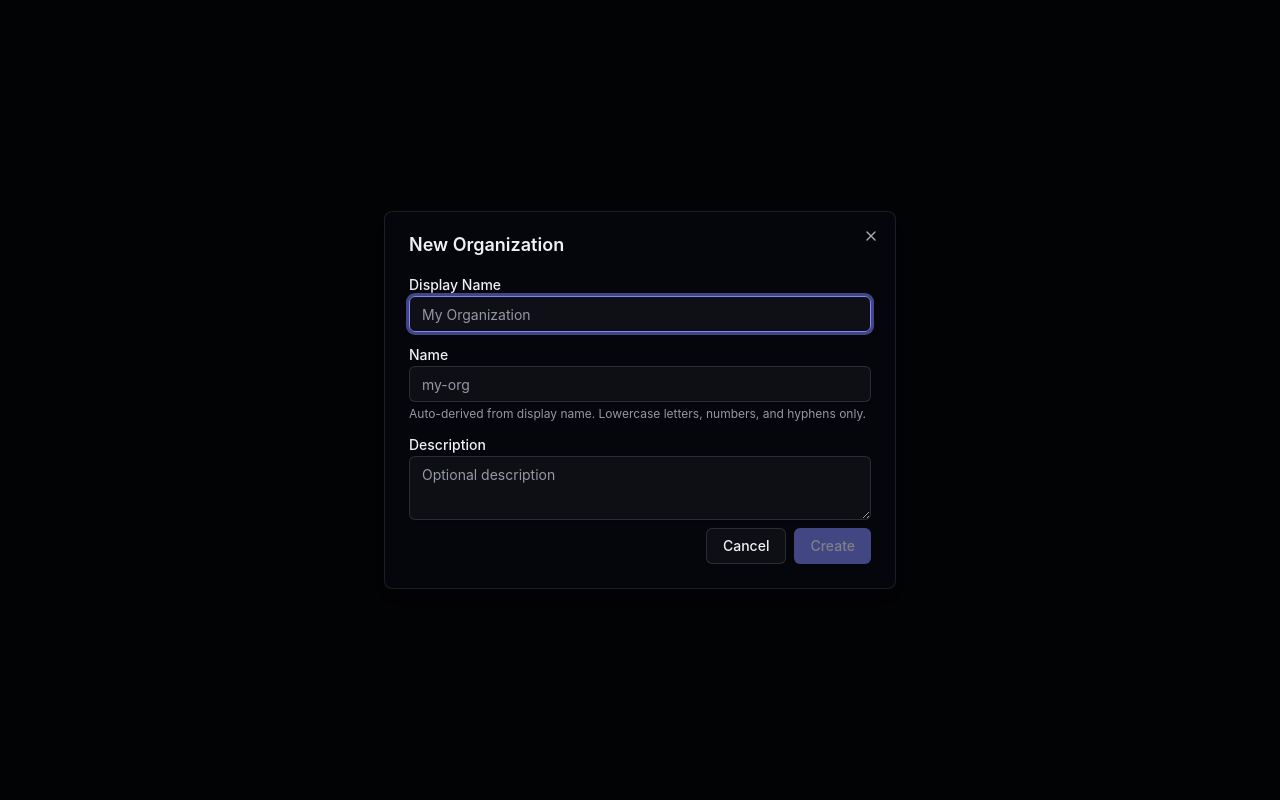
Test: CreateOrgDialog › shows reset link when name has been manually edited
Type "Test Org" into the field with placeholder "My Organization".
click(640, 314); type("Test Org")  # box [409, 296, 871, 332]
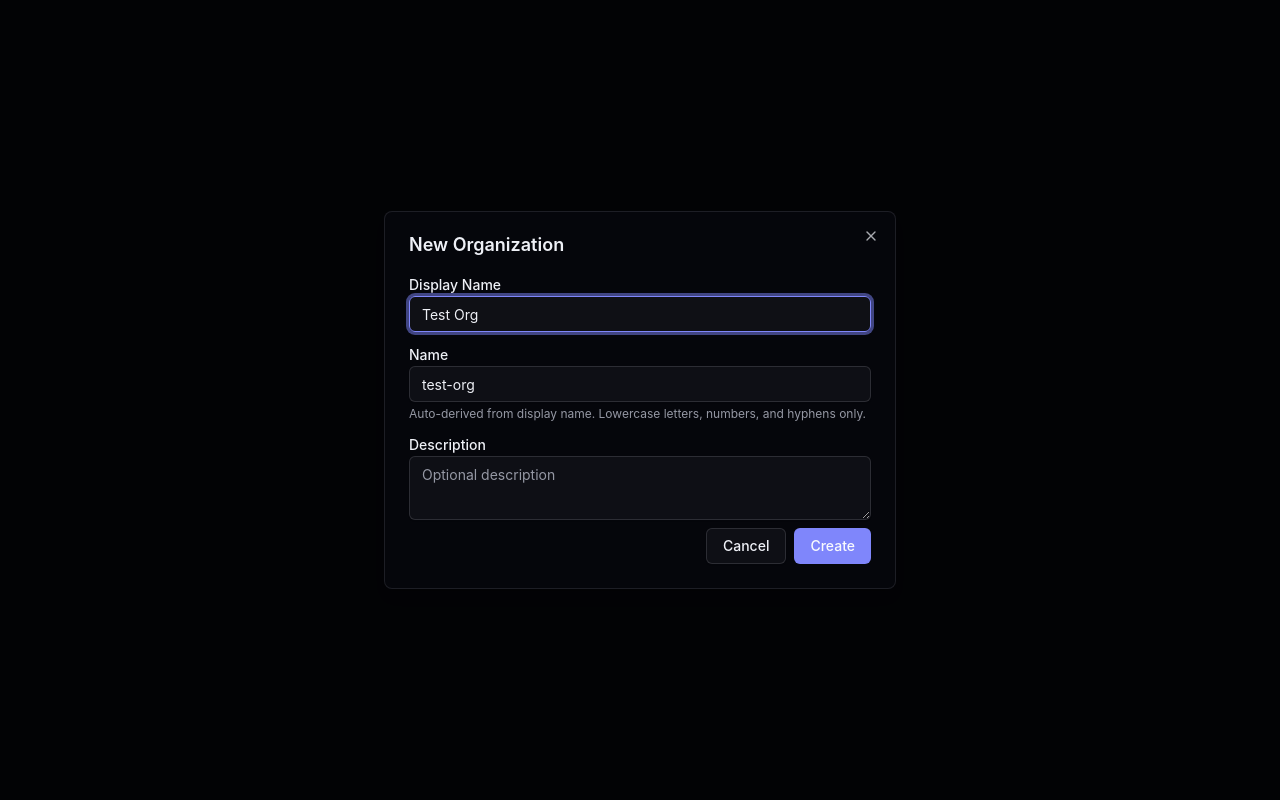
Replace the text in the field with placeholder "my-org" with "custom-slug" at (640, 384), box [409, 366, 871, 402]
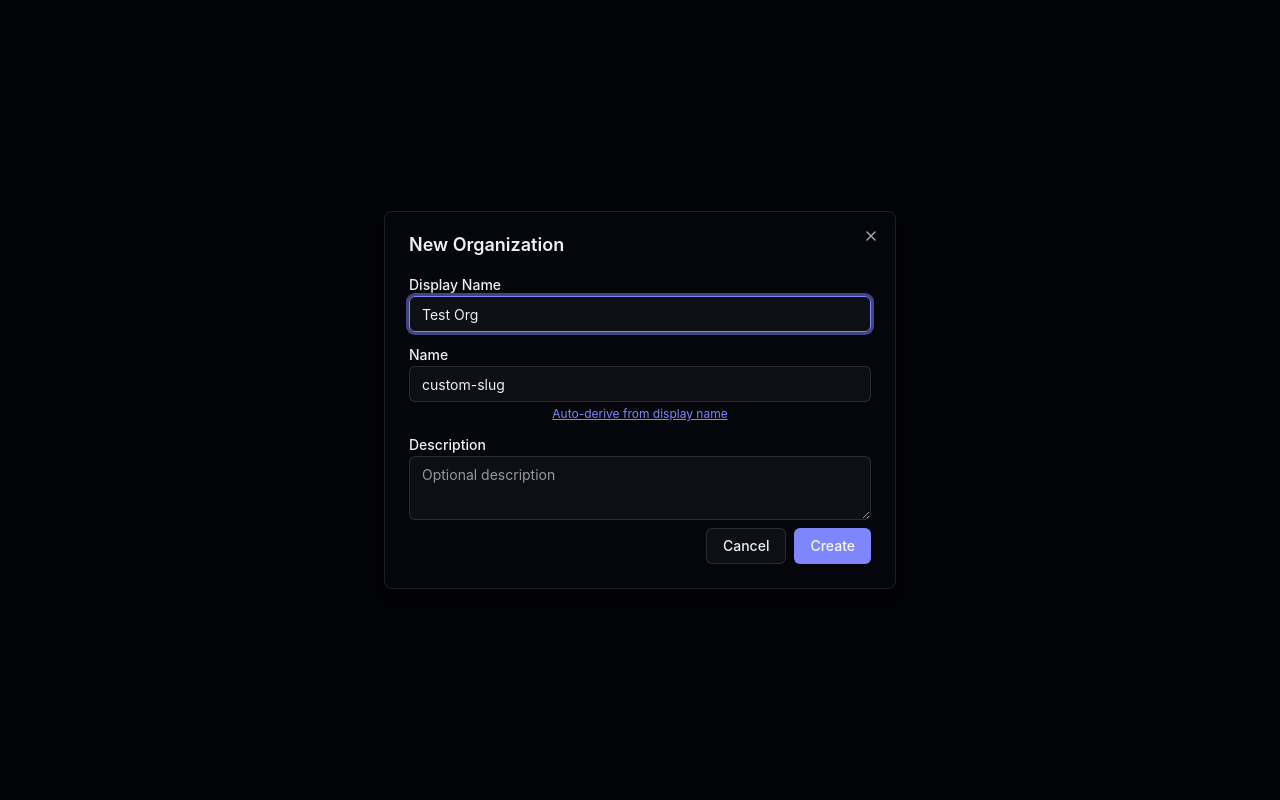
expect the button "Auto-derive from display name" is shown: met, box [409, 406, 871, 422]
